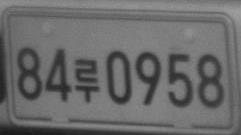0: (105, 49, 133, 104)
4: (44, 47, 72, 102)
5: (166, 52, 193, 107)
8: (196, 53, 224, 107), (16, 46, 42, 101)
9: (135, 51, 161, 105)
루: (73, 58, 99, 103)
